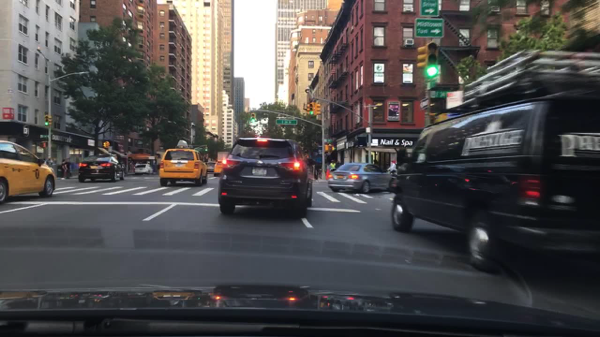car: (390, 49, 599, 271), (218, 137, 312, 217), (0, 140, 57, 204), (159, 140, 208, 187), (328, 163, 394, 193), (78, 154, 125, 183), (134, 163, 154, 175), (214, 161, 228, 176), (206, 164, 215, 172)
person: (65, 158, 73, 179), (388, 161, 397, 174), (61, 159, 66, 178), (46, 157, 53, 167), (335, 160, 340, 169), (330, 161, 334, 171), (373, 160, 379, 166), (128, 160, 131, 172), (130, 161, 133, 172), (135, 162, 140, 166)
traffic light: (425, 42, 438, 79), (417, 46, 425, 70), (309, 102, 314, 115), (315, 103, 320, 116), (324, 145, 333, 151), (40, 142, 49, 148), (251, 113, 256, 123), (44, 115, 48, 126), (48, 114, 52, 125), (306, 104, 310, 115), (103, 142, 106, 148), (106, 141, 109, 147), (205, 147, 207, 152)
traffic sign: (414, 18, 443, 37), (419, 1, 439, 17), (445, 91, 461, 109), (276, 119, 297, 125), (419, 98, 428, 110), (432, 91, 446, 97), (40, 135, 49, 138), (365, 128, 371, 132), (194, 148, 202, 151), (324, 140, 331, 143)
truck: (216, 151, 229, 161)
